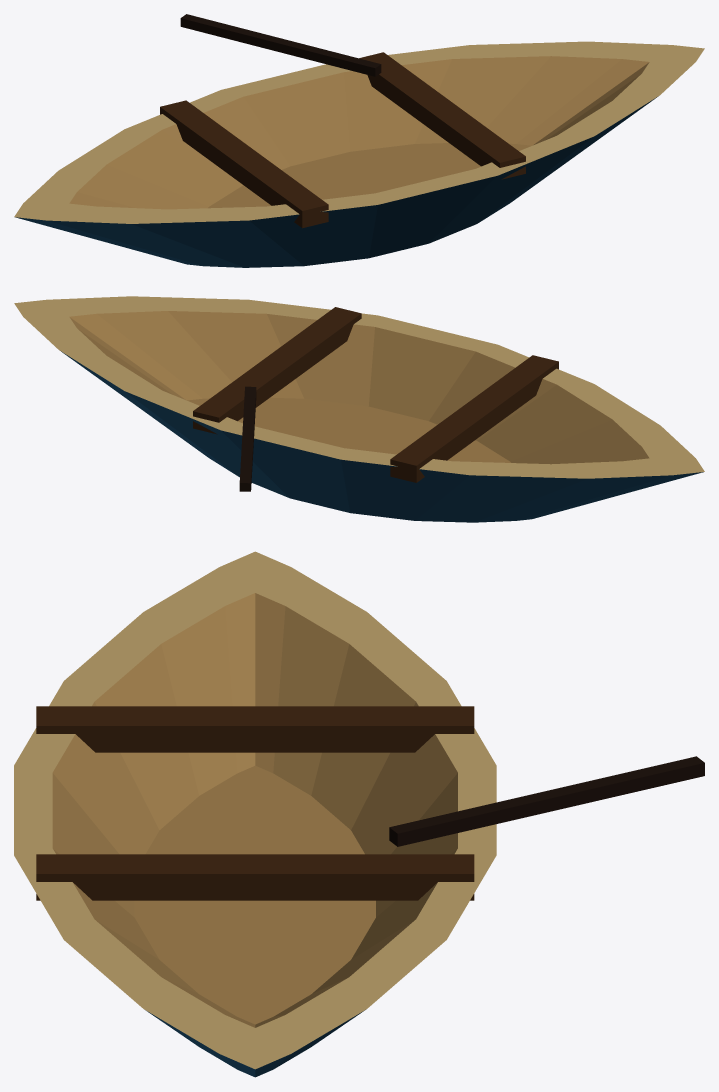
File: coast-boat-c.glb
3 renders of one model, top to bottom at view 1: azimuth 30°, elevation 25°; view 2: azimuth 150°, elevation 25°; view 3: azimuth 270°, elevation 25°, orthographic. The views are drawn at different scales.
Visible parts, largest first — view 1: boat-c; view 2: boat-c; view 3: boat-c.
Boxes of the visible parts, box(x1,y1,x2,y2) form: boat-c: box(14, 14, 704, 267); boat-c: box(14, 296, 704, 522); boat-c: box(14, 551, 704, 1077).
Bounding box in the file's own units: 4.2 × 0.625 × 2.37.
